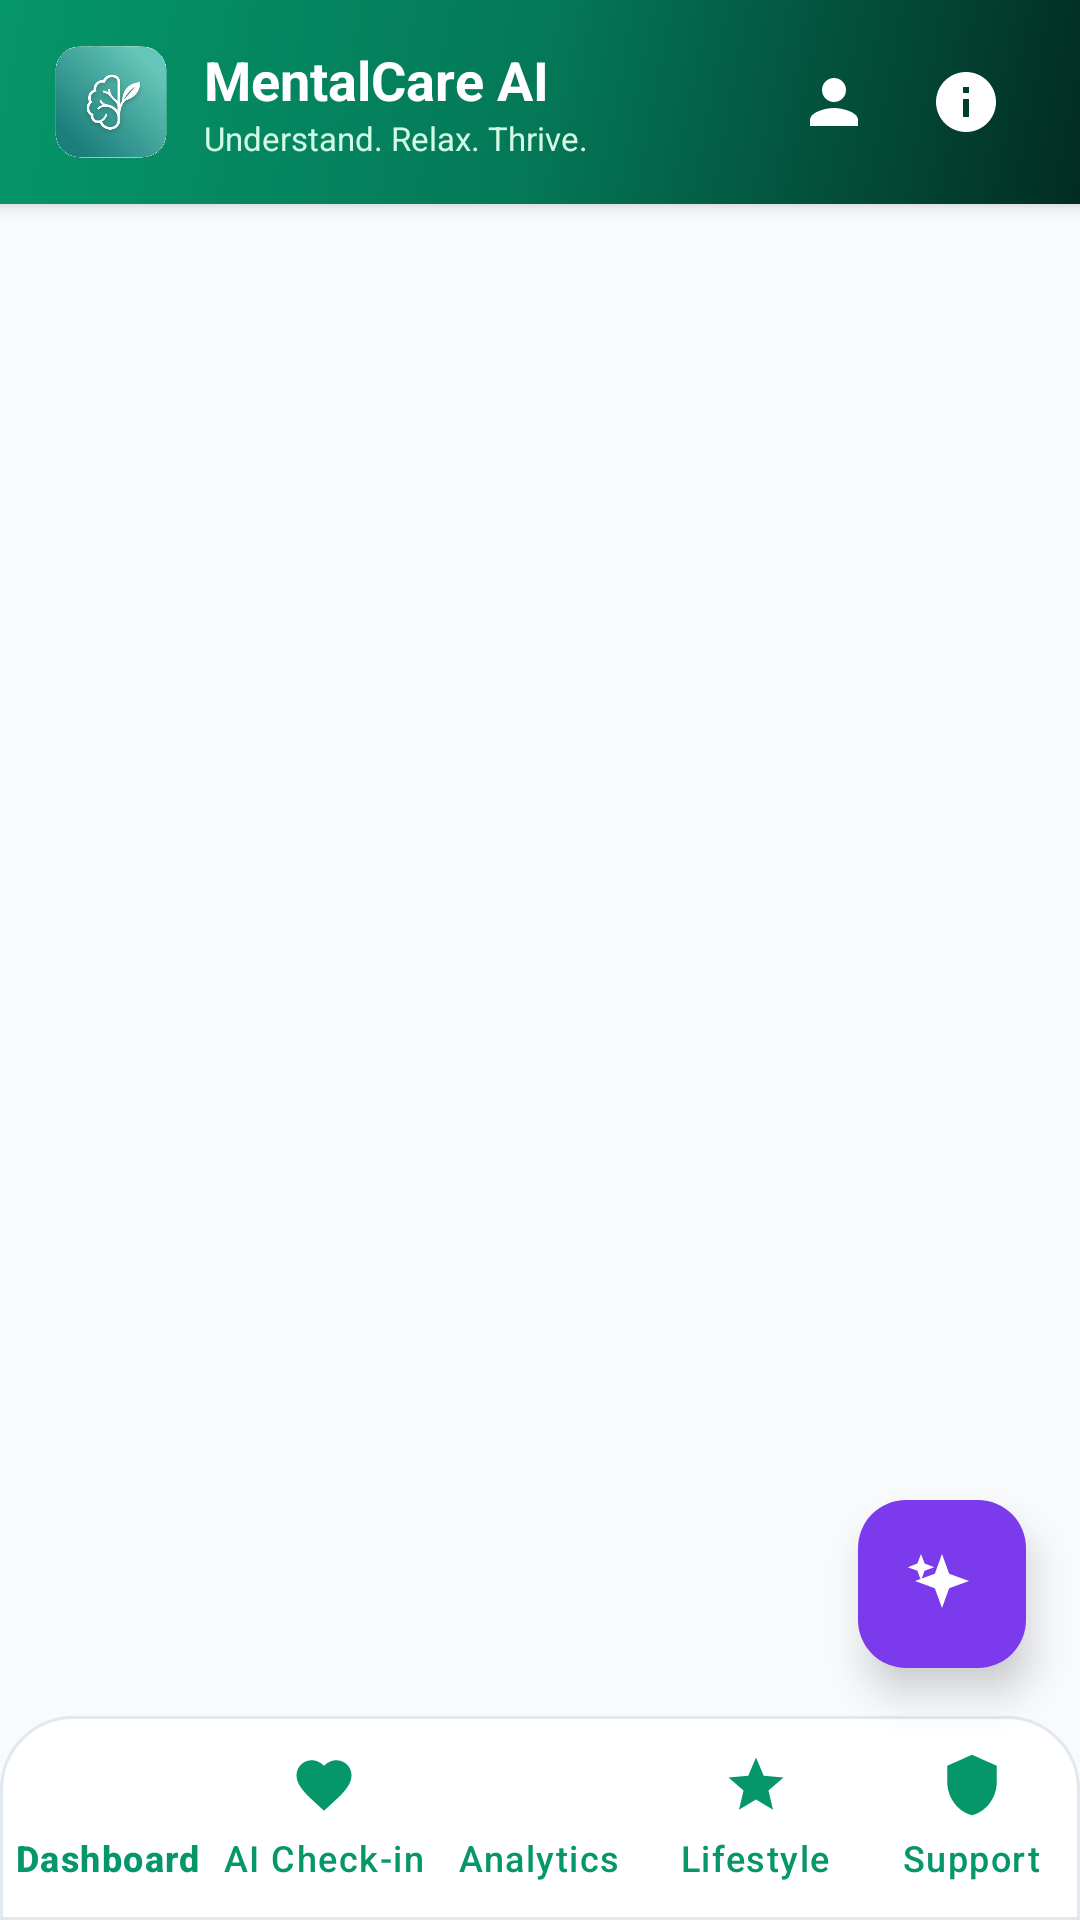

Locate icon controls on the screen. Image size 1080×1920, boxes as (x1, y1, x2, y2).
About: (936, 72, 996, 132)
AI Wellness Assistant: (858, 1500, 1026, 1668)
Profile: (810, 78, 858, 126)
